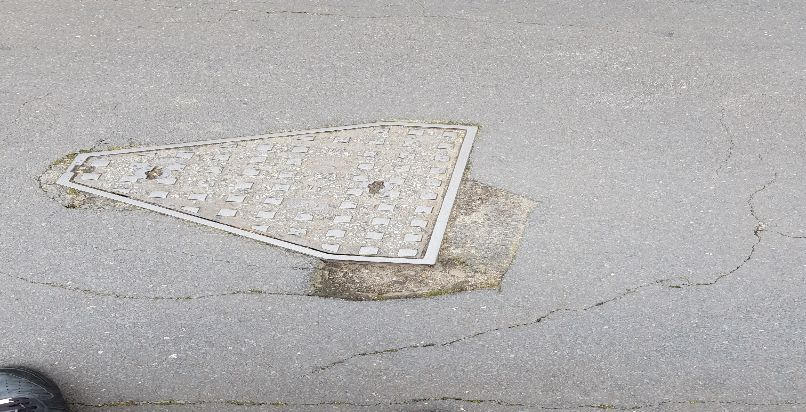pothole: (299, 176, 543, 305)
